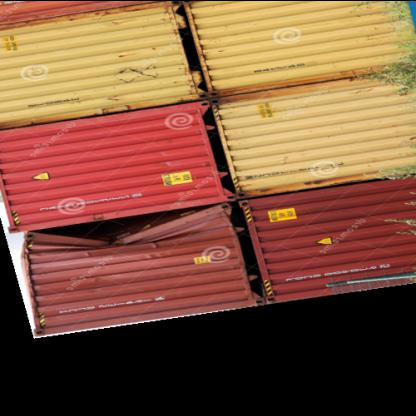Damage: (41, 199, 235, 253)
